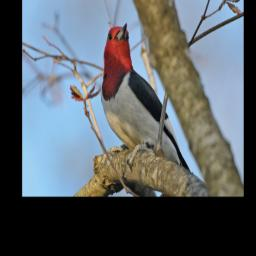Woodpecker: (96, 14, 198, 191)
